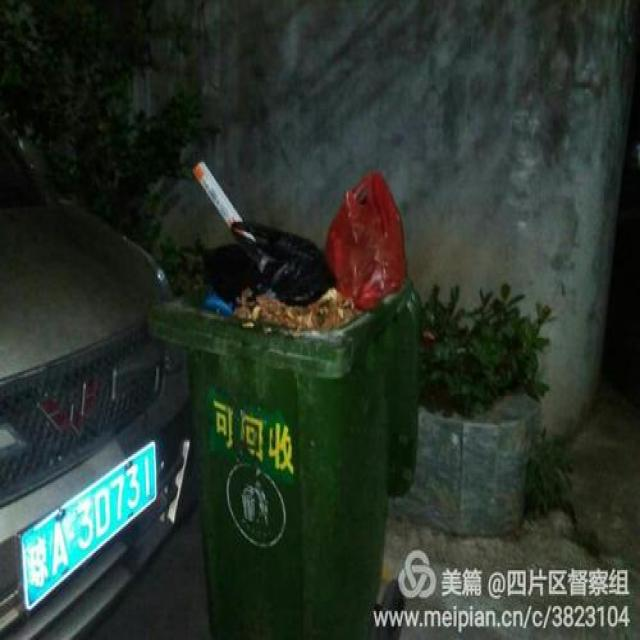overflow: (152, 162, 420, 638)
